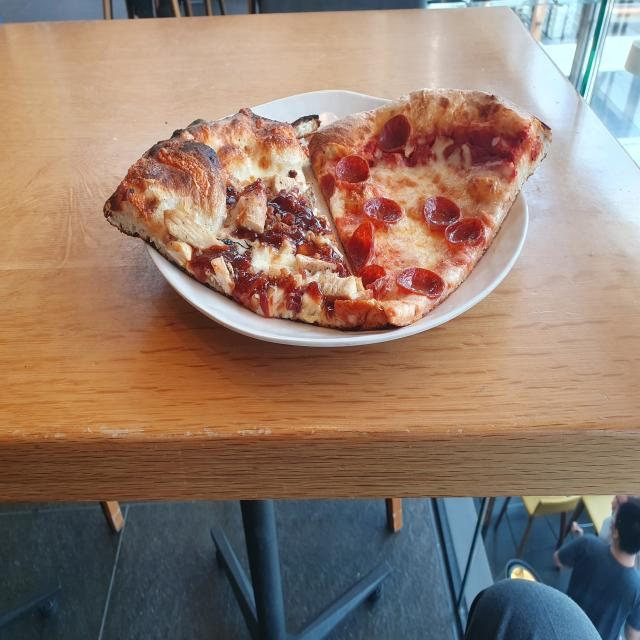Plate: (143, 88, 529, 348)
